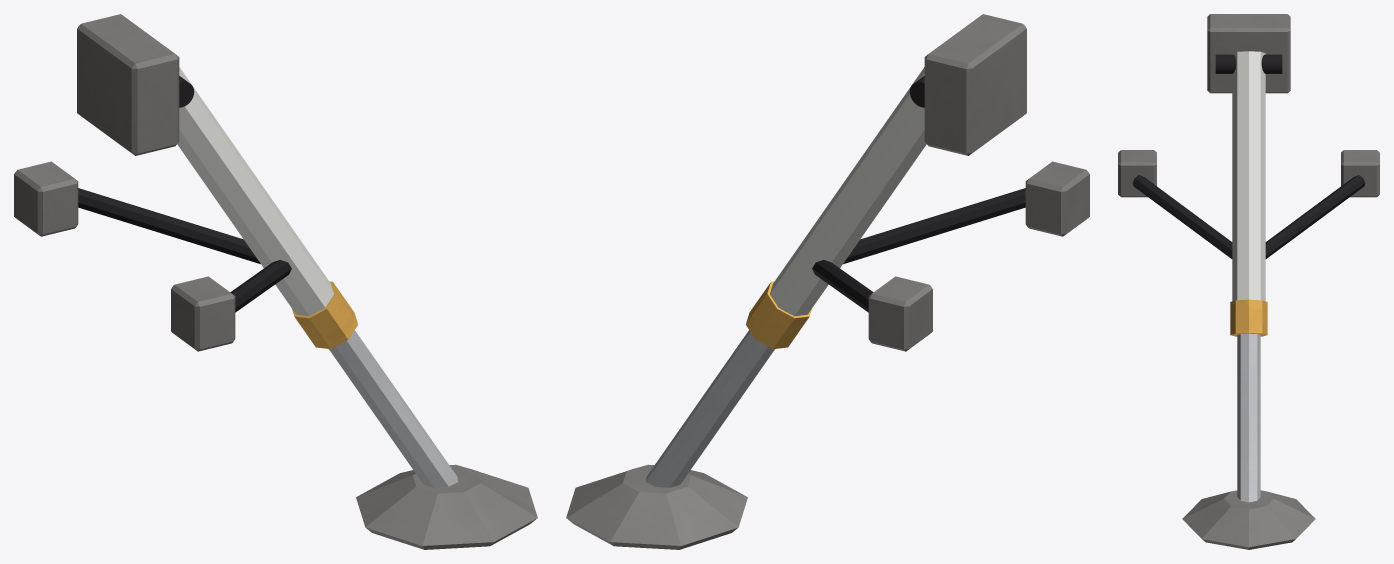
Rendered from ax_gear_04_lander_leg_s_deployed.glb.
3 renders of one model, left to right at view 1: azimuth 30°, elevation 25°; view 2: azimuth 150°, elevation 25°; view 3: azimuth 270°, elevation 25°, orthographic. The views are drawn at different scales.
Parts seen in each view (by area): view 1: leg_hinge_block, leg_footpad, leg_outer_tube, leg_inner_tube, leg_secondary_struts, leg_crush_band; view 2: leg_hinge_block, leg_footpad, leg_outer_tube, leg_inner_tube, leg_secondary_struts, leg_crush_band; view 3: leg_outer_tube, leg_hinge_block, leg_footpad, leg_inner_tube, leg_secondary_struts, leg_crush_band, leg_hinge_pin.
Boxes of the visible parts, bbox=[...] form: leg_hinge_block: bbox=[14, 14, 235, 351]; leg_footpad: bbox=[356, 464, 537, 549]; leg_outer_tube: bbox=[177, 67, 333, 316]; leg_inner_tube: bbox=[329, 330, 457, 487]; leg_secondary_struts: bbox=[78, 188, 291, 312]; leg_crush_band: bbox=[292, 281, 357, 349]; leg_hinge_block: bbox=[868, 14, 1089, 351]; leg_footpad: bbox=[566, 464, 747, 549]; leg_outer_tube: bbox=[770, 67, 926, 316]; leg_inner_tube: bbox=[646, 330, 774, 487]; leg_secondary_struts: bbox=[812, 188, 1025, 312]; leg_crush_band: bbox=[746, 281, 811, 349]; leg_outer_tube: bbox=[1232, 51, 1265, 301]; leg_hinge_block: bbox=[1118, 14, 1379, 197]; leg_footpad: bbox=[1182, 490, 1315, 549]; leg_inner_tube: bbox=[1237, 333, 1260, 502]; leg_secondary_struts: bbox=[1132, 175, 1365, 258]; leg_crush_band: bbox=[1230, 299, 1267, 336]; leg_hinge_pin: bbox=[1215, 54, 1282, 73].
Size of the model in its own units: 1.25 by 1.56 by 0.94.
5 materials, 3 textured.
